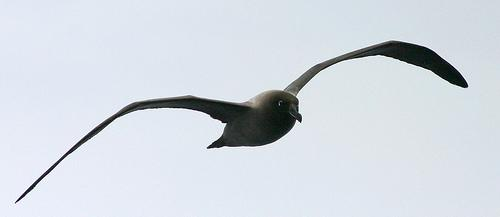003.Sooty_Albatross: (15, 42, 469, 214)
